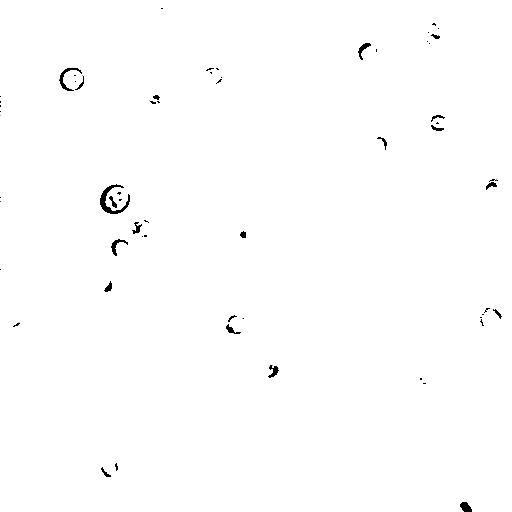micro-algae: (45, 115, 169, 235), (223, 215, 261, 248), (479, 299, 510, 335), (412, 361, 445, 394), (419, 16, 449, 49), (101, 183, 131, 216), (448, 490, 484, 512), (58, 65, 85, 92), (199, 65, 227, 89), (356, 39, 379, 65), (224, 312, 248, 336), (479, 177, 505, 199), (129, 218, 154, 240), (109, 239, 131, 259), (371, 134, 389, 158), (153, 1, 174, 21), (93, 274, 113, 293), (101, 456, 118, 478), (427, 113, 445, 133), (260, 362, 281, 379), (3, 312, 23, 329)
